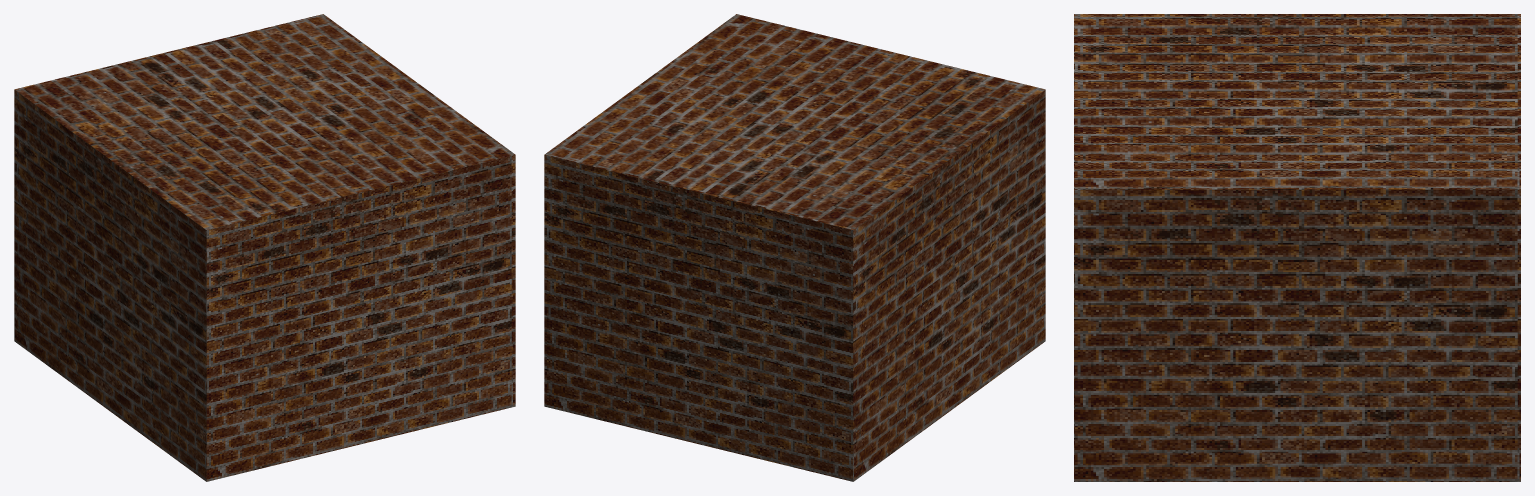
File: Small_room.fbx
3 views of the same model, side by side, from view 1: azimuth 30°, elevation 25°; view 2: azimuth 150°, elevation 25°; view 3: azimuth 270°, elevation 25° (orthographic). The views are drawn at different scales.
Visible parts, largest first — view 1: Cube; view 2: Cube; view 3: Cube.
Boxes of the visible parts, x1=… form: Cube: x1=14, y1=14, x2=515, y2=481; Cube: x1=544, y1=14, x2=1045, y2=481; Cube: x1=1074, y1=14, x2=1520, y2=481.
Bounding box in the file's own units: 593 × 462 × 639.
2 materials, 2 textured.
